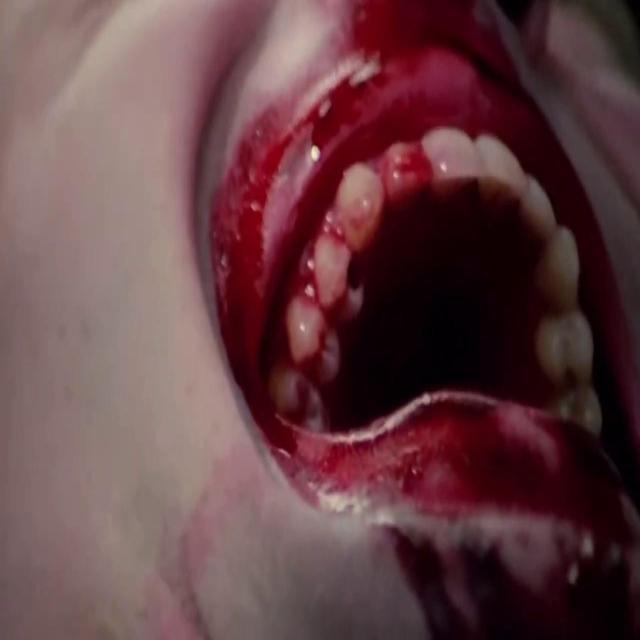flood: (294, 78, 370, 166)
